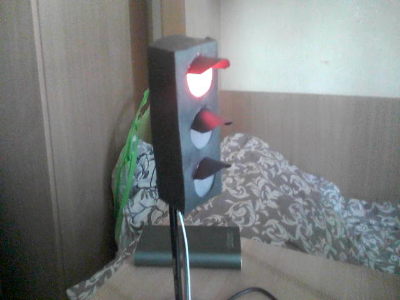trafficlight_red: (173, 43, 228, 205)
